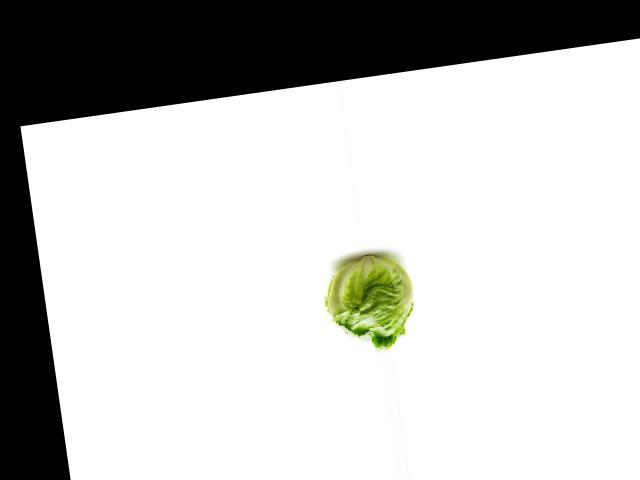lettuce: (311, 245, 423, 358)
